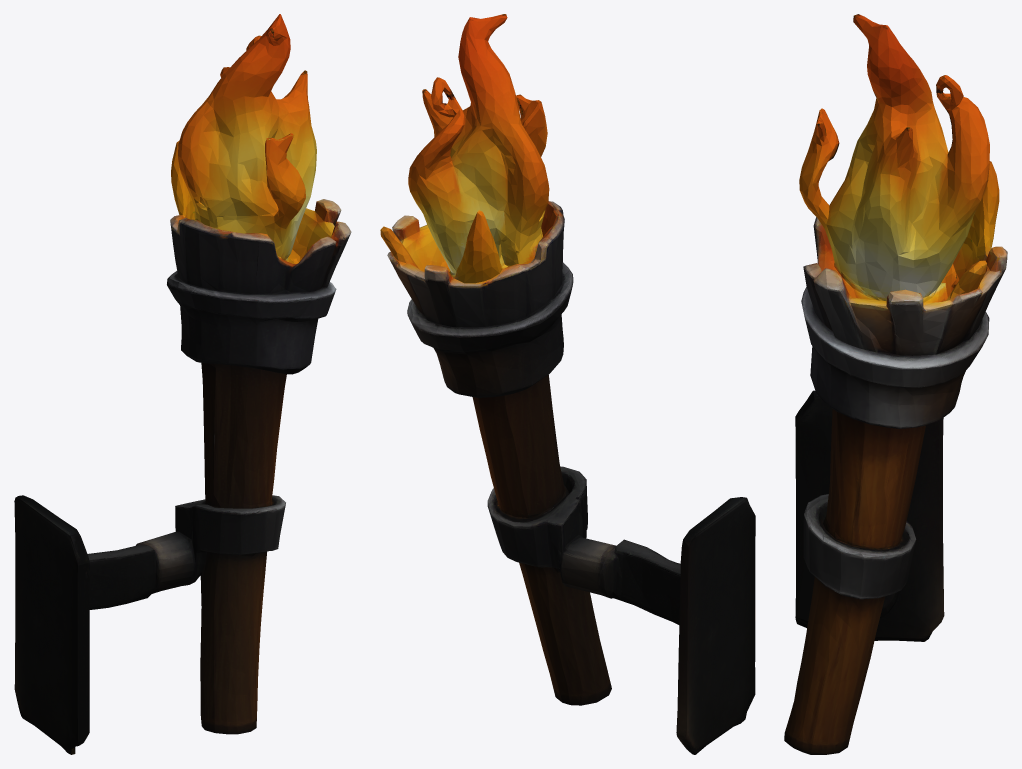
File: torch_wall_mount.glb
3 views of the same model, side by side, from view 1: azimuth 30°, elevation 25°; view 2: azimuth 150°, elevation 25°; view 3: azimuth 270°, elevation 25° (orthographic). The views are drawn at different scales.
Visible parts, largest first — view 1: world; view 2: world; view 3: world.
Part boxes in pixels (<box>): world: <box>14,14,351,754</box>; world: <box>380,14,755,754</box>; world: <box>784,14,1007,754</box>.
Bounding box in the file's own units: 0.4762 × 0.9975 × 0.2644.
Materials: 1 (1 with a texture image).
